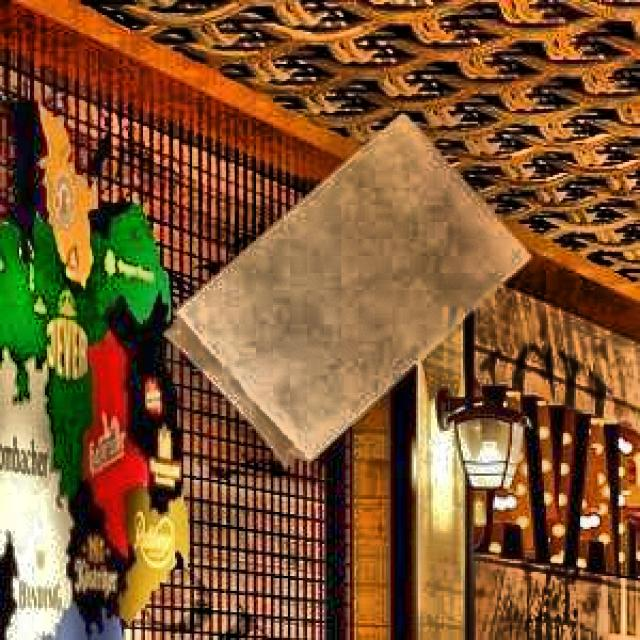Paper-bag: (163, 109, 538, 498)
